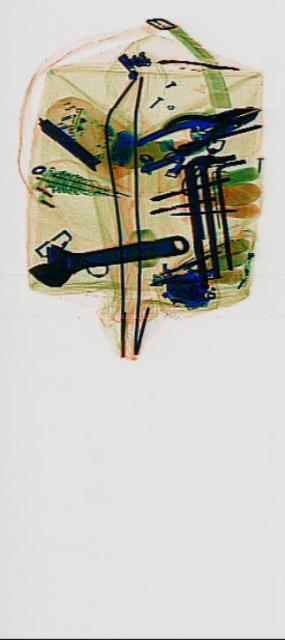Pliers: (162, 82, 261, 164)
Wrench: (26, 222, 187, 290)
